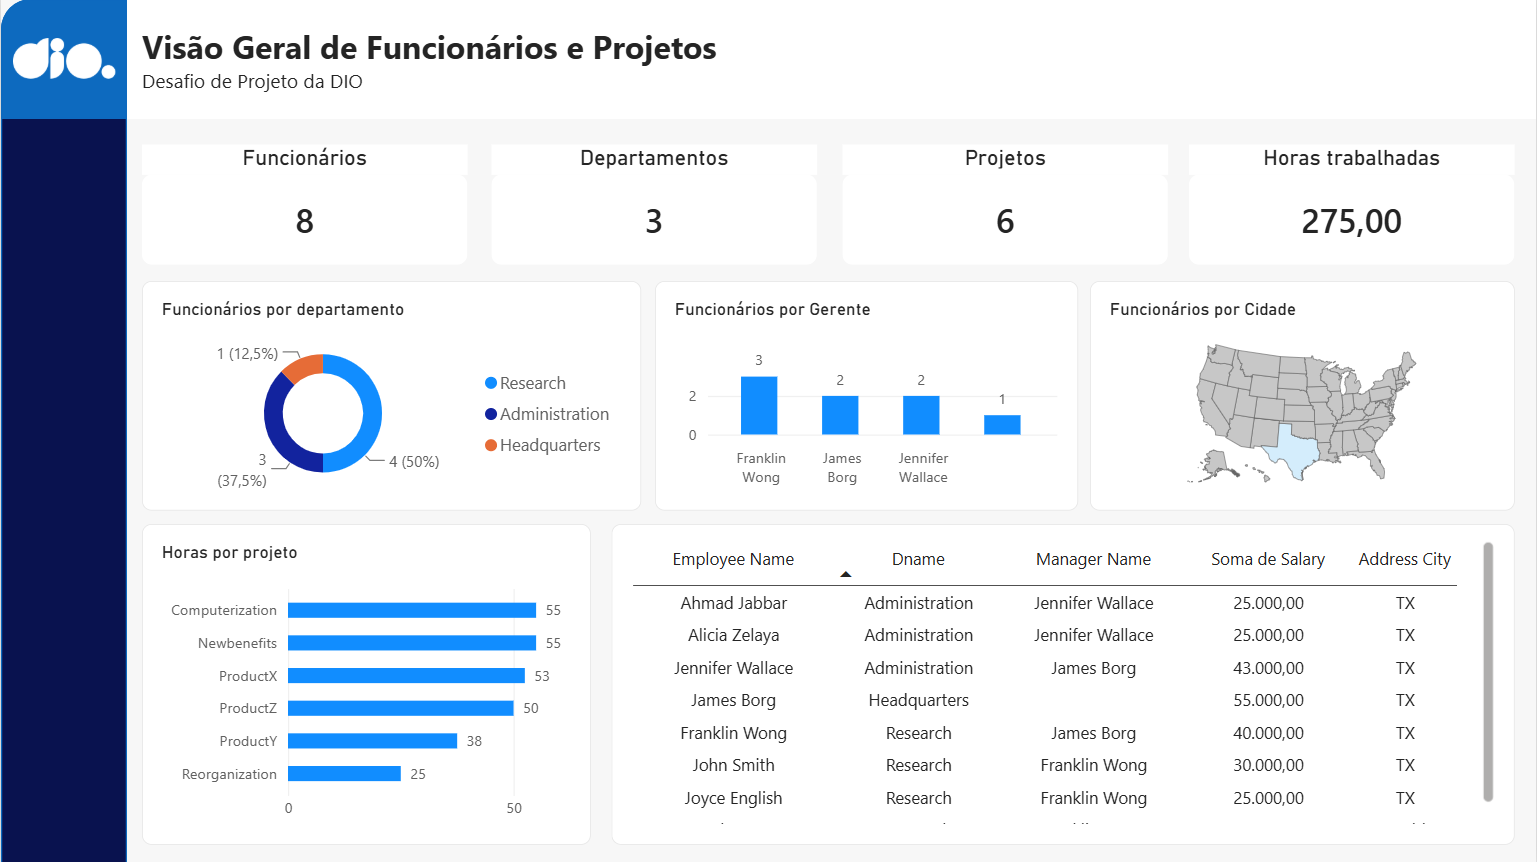

Layout of this report page (visuals, bound fields, positions):
{"tool":"powerbi","page":{"name":"Projeto","canvas":[1280,720],"ordinal":0},"visuals":[{"type":"shape","box":[0,0,105,1080],"z":0},{"type":"shape","box":[0,0,105,100],"z":1000},{"type":"image","title":"logo_dio","box":[10,12.5,85,73.8],"z":2000},{"type":"shape","box":[105,0,1605,100],"z":3000},{"type":"textbox","box":[117.5,21.2,1143.8,65],"z":4000},{"type":"cardVisual","title":"Funcionários","fields":{"Data":["Count(azure_company employee.Ssn)"]},"box":[117.5,121.2,271.2,100],"z":5000},{"type":"cardVisual","title":"Departamentos","fields":{"Data":["Count(azure_company departament.Dnumber)"]},"box":[408.8,121.2,271.2,100],"z":6000},{"type":"cardVisual","title":"Projetos","fields":{"Data":["Count(azure_company project.Pnumber)"]},"box":[701.2,121.2,271.2,100],"z":7000},{"type":"cardVisual","title":"Horas trabalhadas","fields":{"Data":["Sum(azure_company works_on.Hours)"]},"box":[990,121.2,271.2,100],"z":8000},{"type":"donutChart","title":"Funcionários por departamento","fields":{"Category":["azure_company employee.department_lookup.Dname.1"],"Y":["CountNonNull(azure_company employee.Ssn)"]},"box":[117.5,235,416.2,191.2],"z":9000},{"type":"barChart","title":"Horas por projeto","fields":{"Category":["Mesclar1.Pname"],"Y":["Sum(Mesclar1.azure_company works_on.Hours)"]},"box":[117.5,437.5,373.8,267.5],"z":9001},{"type":"columnChart","title":"Funcionários por Gerente","fields":{"Category":["azure_company employee.Manager Name"],"Y":["CountNonNull(azure_company employee.Employee Name)"]},"box":[545,235,352.5,191.2],"z":9002},{"type":"shapeMap","title":"Funcionários por Cidade","fields":{"Value":["CountNonNull(azure_company employee.Ssn)"],"Category":["azure_company employee.Address City"]},"box":[907.5,235,353.8,191.2],"z":9003},{"type":"tableEx","fields":{"Values":["azure_company employee.Employee Name","azure_company employee.department_lookup.Dname.1","azure_company employee.Manager Name","Sum(azure_company employee.Salary)","azure_company employee.Address City"]},"box":[508.8,437.5,752.5,267.5],"z":9004}]}

Visuals, with their boxes in screenshot pixels (x1, y1, x2, y2), scaled from the page's 1280x720 canvas onto the 1537x862 screenshot:
shape: select_region(0, 0, 126, 861)
shape: select_region(0, 0, 126, 120)
"logo_dio" image: select_region(12, 15, 114, 103)
shape: select_region(126, 0, 1536, 120)
textbox: select_region(141, 25, 1515, 103)
"Funcionários" cardVisual: select_region(141, 145, 467, 265)
"Departamentos" cardVisual: select_region(491, 145, 817, 265)
"Projetos" cardVisual: select_region(842, 145, 1168, 265)
"Horas trabalhadas" cardVisual: select_region(1189, 145, 1514, 265)
"Funcionários por departamento" donutChart: select_region(141, 281, 641, 510)
"Horas por projeto" barChart: select_region(141, 524, 590, 844)
"Funcionários por Gerente" columnChart: select_region(654, 281, 1078, 510)
"Funcionários por Cidade" shapeMap: select_region(1090, 281, 1515, 510)
tableEx - azure_company employee.Employee Name x azure_company employee.department_lookup.Dname.1: select_region(611, 524, 1515, 844)
